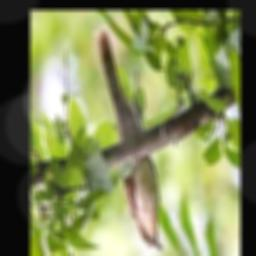Cuckoo: (93, 27, 163, 252)
